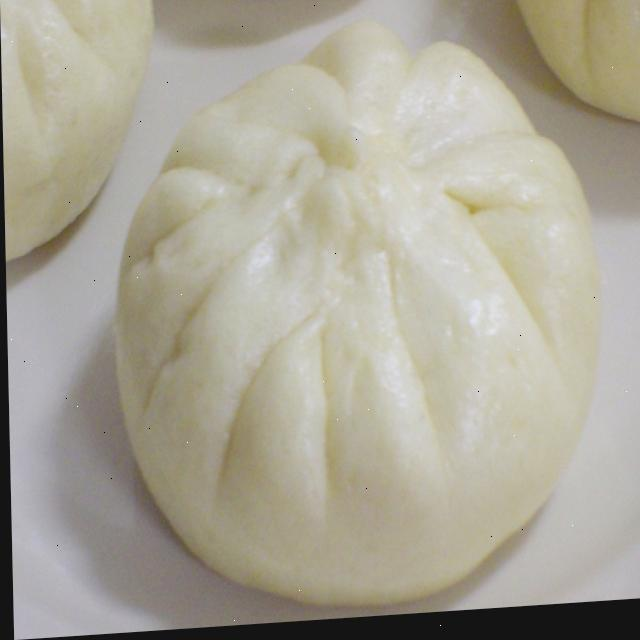带馅早点: (0, 0, 640, 616)
